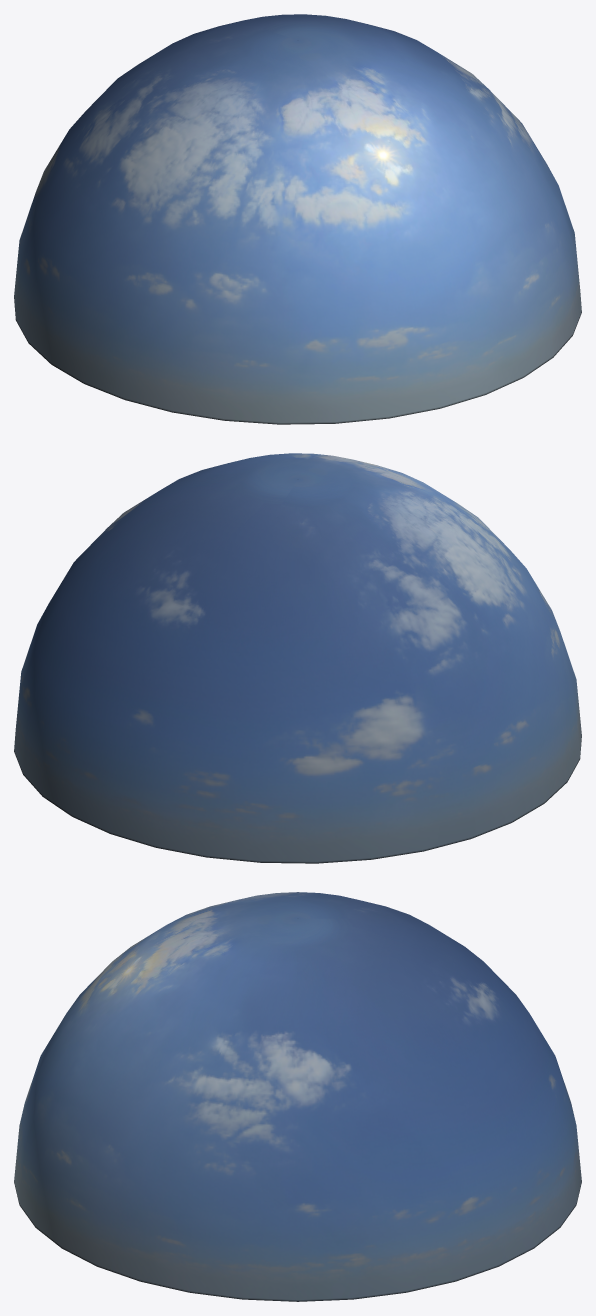
The model's file is Skydome001.obj.
3 views of the same model, one above another, from view 1: azimuth 30°, elevation 25°; view 2: azimuth 150°, elevation 25°; view 3: azimuth 270°, elevation 25° (orthographic).
Visible parts, largest first — view 1: Sphere01; view 2: Sphere01; view 3: Sphere01.
Boxes of the visible parts, x1=… form: Sphere01: x1=14, y1=14, x2=581, y2=424; Sphere01: x1=14, y1=453, x2=581, y2=863; Sphere01: x1=14, y1=892, x2=581, y2=1301.
Bounding box in the file's own units: 200 × 102 × 200.
Materials: 1 (1 with a texture image).
